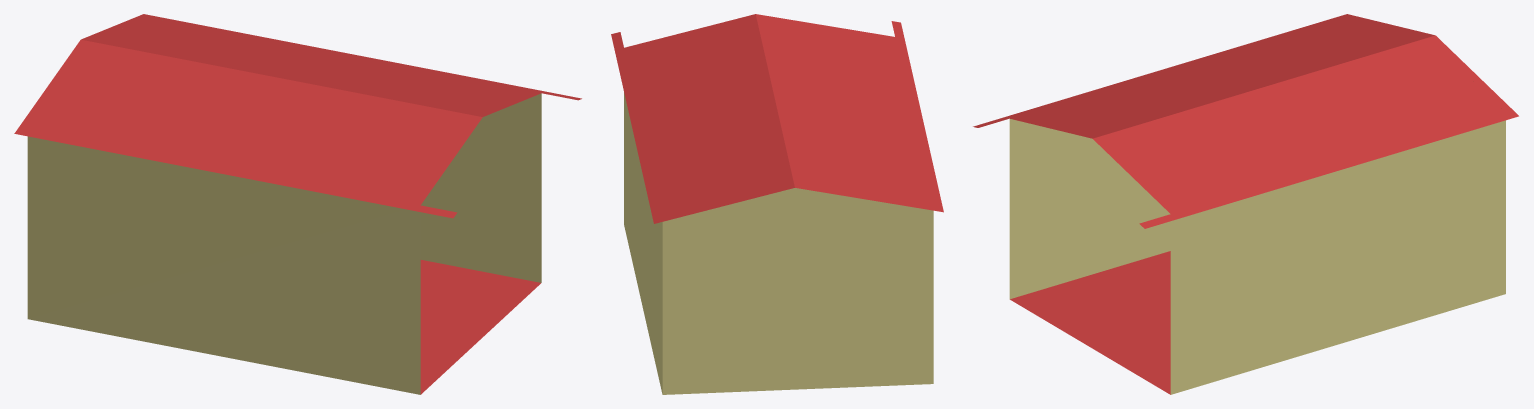
3 views of the same model, side by side, from view 1: azimuth 30°, elevation 25°; view 2: azimuth 150°, elevation 25°; view 3: azimuth 270°, elevation 25° (orthographic). The views are drawn at different scales.
Size of the model in its own units: 26.23 by 28.2 by 11.94.
